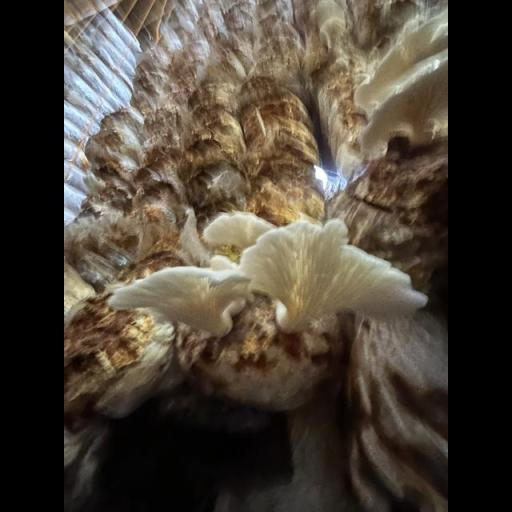White Oyster Mushroom: (108, 202, 430, 355)
